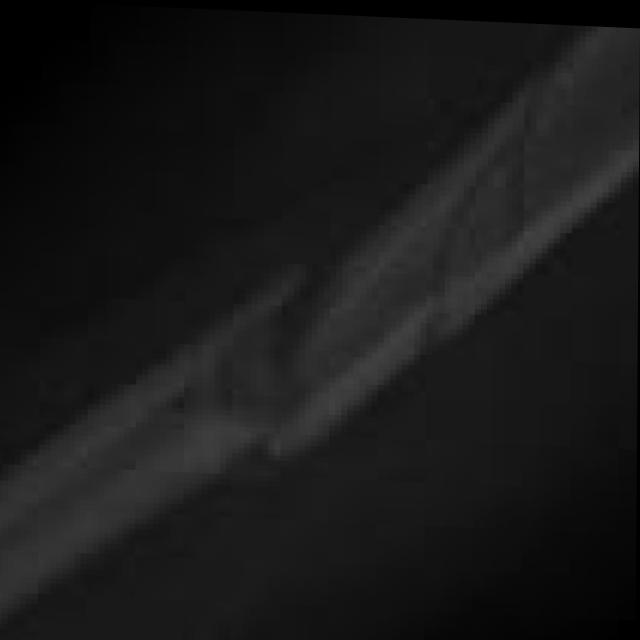fracture: (0, 16, 638, 640)
